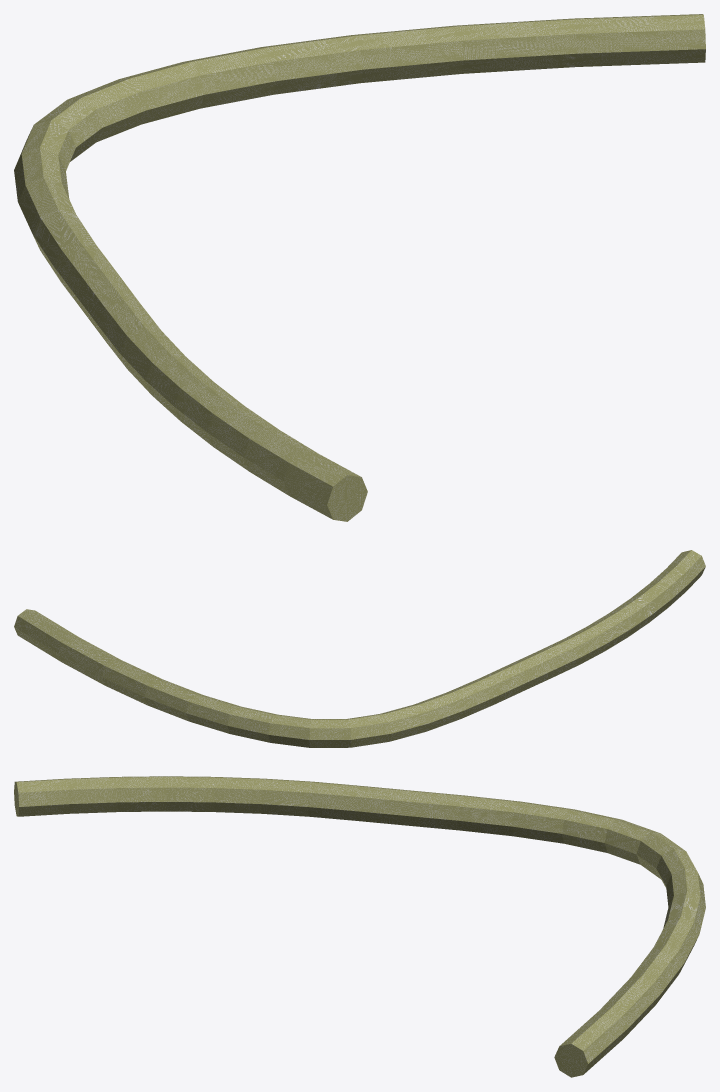
The model's file is original-109.obj.
3 renders of one model, top to bottom at view 1: azimuth 30°, elevation 25°; view 2: azimuth 150°, elevation 25°; view 3: azimuth 270°, elevation 25°, orthographic. The views are drawn at different scales.
Visible parts, largest first — view 1: Line48_1/Line48/mesh146/mesh146-geometry#mesh146-geometry; view 2: Line48_1/Line48/mesh146/mesh146-geometry#mesh146-geometry; view 3: Line48_1/Line48/mesh146/mesh146-geometry#mesh146-geometry.
Part boxes in pixels (box(x1,y1,x2,y2)): Line48_1/Line48/mesh146/mesh146-geometry#mesh146-geometry: box(14, 14, 705, 521); Line48_1/Line48/mesh146/mesh146-geometry#mesh146-geometry: box(14, 550, 705, 747); Line48_1/Line48/mesh146/mesh146-geometry#mesh146-geometry: box(14, 776, 705, 1077).
Size of the model in its own units: 0.4023 by 0.0229 by 0.4231.
